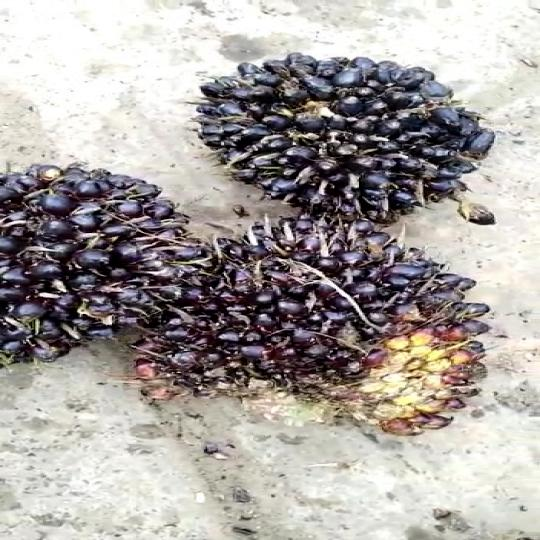mentah: (164, 224, 517, 455), (170, 43, 540, 233), (0, 147, 217, 369)
